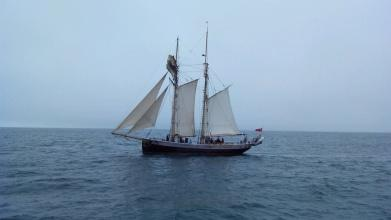fanchuan: (109, 19, 269, 154)
